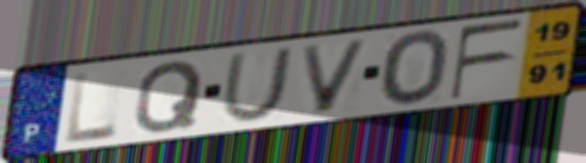F: (447, 16, 528, 103)
L: (63, 67, 121, 146)
O: (378, 28, 453, 110)
Q: (130, 58, 207, 136)
U: (217, 44, 297, 125)
V: (297, 37, 374, 116)
